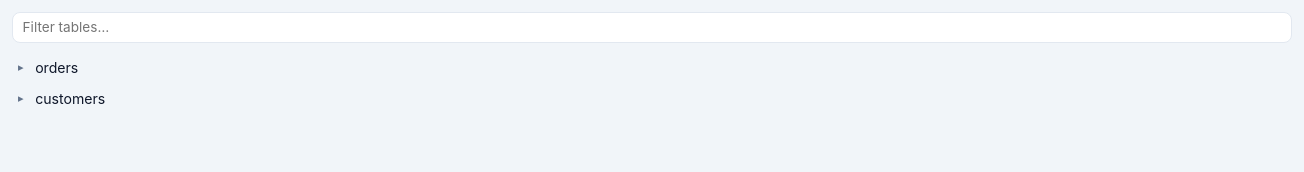
SchemaTree › filters tables by name
Type "cust" into the search field labelled "Filter tables" at (652, 27), box [12, 12, 1292, 43]
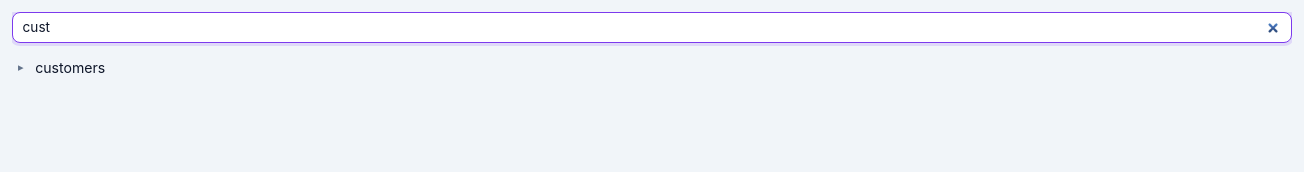
Expected: the button "customers" is shown, [32, 52, 1266, 83]
Expected: the button "orders" is gone
